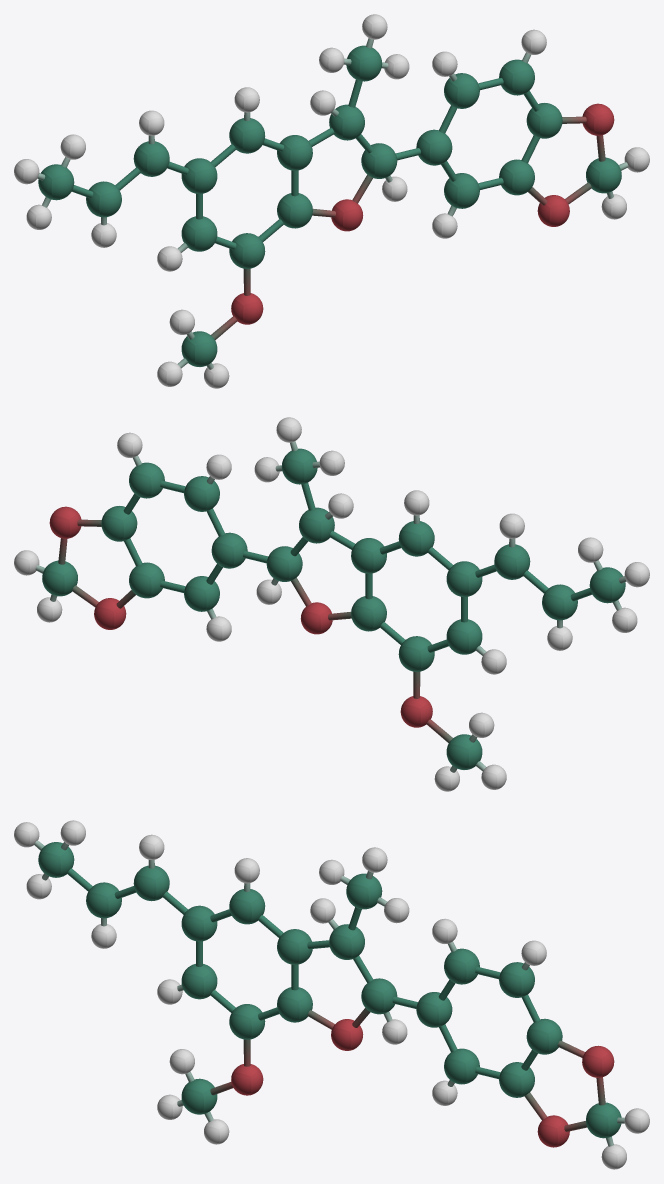
The model's file is Licarian A.fbx.
The picture shows the model from 3 angles, top to bottom: view 1: azimuth 30°, elevation 25°; view 2: azimuth 150°, elevation 25°; view 3: azimuth 330°, elevation 25°; orthographic projection.
Visible parts, largest first — view 1: curMeshHyperballExportedMesh; view 2: curMeshHyperballExportedMesh; view 3: curMeshHyperballExportedMesh.
Part boxes in pixels (box(x1,y1,x2,y2)): curMeshHyperballExportedMesh: box(14, 14, 649, 388); curMeshHyperballExportedMesh: box(14, 417, 649, 791); curMeshHyperballExportedMesh: box(14, 820, 649, 1169).
Size of the model in its own units: 11.48 by 5.78 by 0.5667.
